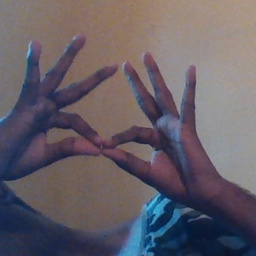B: (33, 91, 168, 182)
